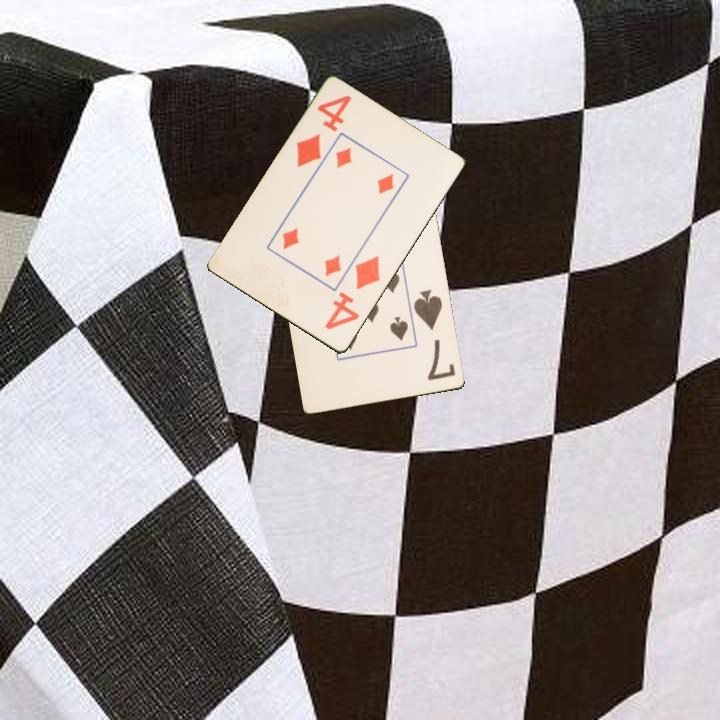4d: (321, 252, 383, 333), (293, 92, 355, 171)
7s: (410, 286, 459, 384)
